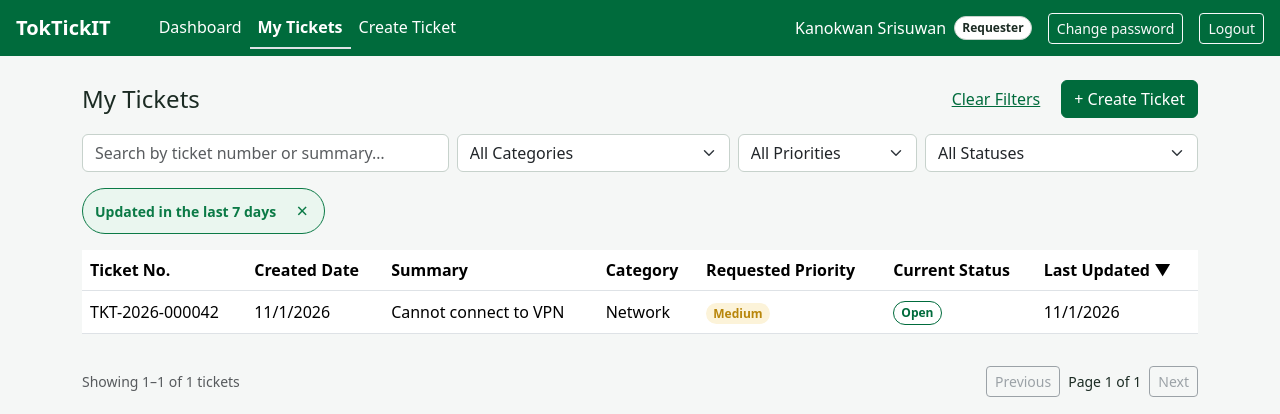
drill-down targets read the dashboard query string › opens My Tickets with the window chip and sort from the URL, sends them, and removes the chip
The image size is (1280, 414).
Click the button named "Remove filter: Updated in the last 7 days".
click(302, 211)  # box x1=280 y1=189 x2=324 y2=233
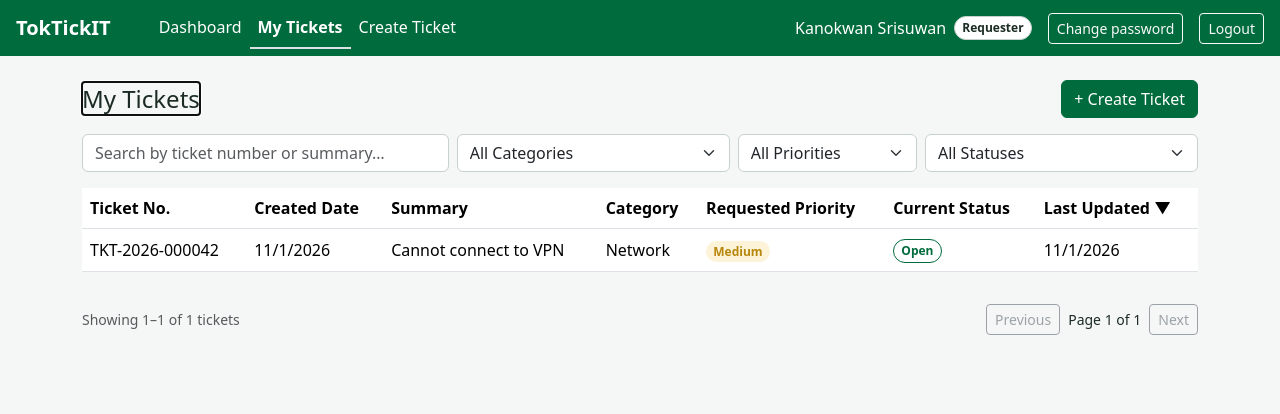
Check: the text "Updated in the last 7 days" is gone
